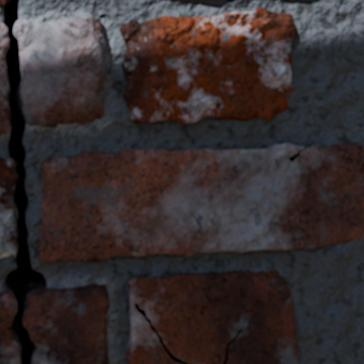brick: (38, 143, 363, 262), (120, 7, 294, 123), (126, 271, 297, 363), (0, 158, 16, 257), (0, 0, 7, 4)
broken_brick: (15, 17, 105, 127), (24, 284, 109, 363), (0, 290, 17, 363), (0, 22, 8, 134)
crack: (1, 0, 48, 363), (134, 302, 191, 363), (222, 328, 242, 363), (287, 145, 311, 162), (356, 144, 363, 151)
